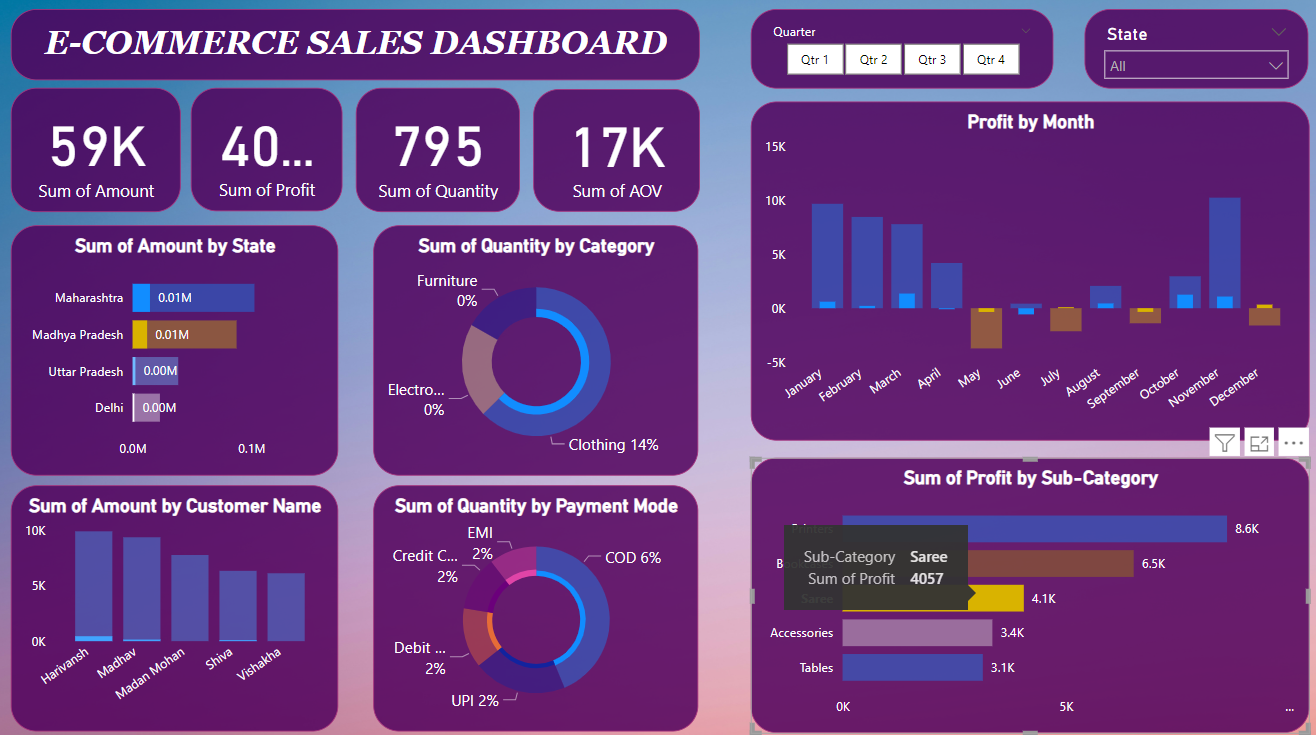

This screenshot's page, from the dashboard's own definition file:
{"tool":"powerbi","page":{"name":"Page 1","canvas":[1280,720],"ordinal":0},"visuals":[{"type":"textbox","box":[13.3,14.5,664.5,68.7],"z":0},{"type":"columnChart","title":"Profit by Month","fields":{"Category":["Orders.Order Date.Variation.Date Hierarchy.Month"],"Y":["Sum(Details.Profit)"]},"box":[727.2,103.7,539.1,326.8],"z":1000},{"type":"barChart","fields":{"Category":["Details.Sub-Category"],"Y":["Sum(Details.Profit)"]},"box":[726,445,539.1,266.5],"z":2000},{"type":"donutChart","fields":{"Category":["Details.Category"],"Y":["Sum(Details.Quantity)"]},"box":[363,223.1,313.6,241.2],"z":3000},{"type":"donutChart","title":"Sum of Quantity by Payment Mode","fields":{"Y":["Sum(Details.Quantity)"],"Category":["Details.PaymentMode"]},"box":[362.5,473.9,313.6,238.6],"z":4000},{"type":"card","fields":{"Values":["Sum(Details.Amount)"]},"box":[13,91,164,120],"z":5000},{"type":"card","fields":{"Values":["Sum(Details.Quantity)"]},"box":[346,90,158,120],"z":6000},{"type":"card","fields":{"Values":["Sum(Details.Profit)"]},"box":[187,91,146,119],"z":7000},{"type":"card","fields":{"Values":["Sum(Details.AOV)"]},"box":[517,92,161,118],"z":8000},{"type":"barChart","fields":{"Category":["Orders.State"],"Y":["Sum(Details.Amount)"]},"box":[13.3,223.1,316,241.2],"z":9000},{"type":"columnChart","title":"Sum of Amount by Customer Name","fields":{"Category":["Orders.CustomerName"],"Y":["Sum(Details.Amount)"]},"box":[13.6,473.9,315.9,238.6],"z":10000},{"type":"slicer","fields":{"Values":["Orders.Order Date.Variation.Date Hierarchy.Quarter"]},"box":[727.2,14.5,291.9,77.2],"z":11000},{"type":"slicer","fields":{"Values":["Orders.State"]},"box":[1049.2,14.5,215.9,77.2],"z":12000}]}

Visuals, with their boxes in screenshot pixels (x1, y1, x2, y2), scaled from the page's 1280x720 canvas onto the 1316x735 screenshot:
textbox: [14,15,697,85]
"Profit by Month" columnChart: [748,106,1302,439]
barChart - Details.Sub-Category x Sum(Details.Profit): [746,454,1301,726]
donutChart - Details.Category x Sum(Details.Quantity): [373,228,696,474]
"Sum of Quantity by Payment Mode" donutChart: [373,484,695,727]
card - Sum(Details.Amount): [13,93,182,215]
card - Sum(Details.Quantity): [356,92,518,214]
card - Sum(Details.Profit): [192,93,342,214]
card - Sum(Details.AOV): [532,94,697,214]
barChart - Orders.State x Sum(Details.Amount): [14,228,339,474]
"Sum of Amount by Customer Name" columnChart: [14,484,339,727]
slicer - Orders.Order Date.Variation.Date Hierarchy.Quarter: [748,15,1048,94]
slicer - Orders.State: [1079,15,1301,94]
